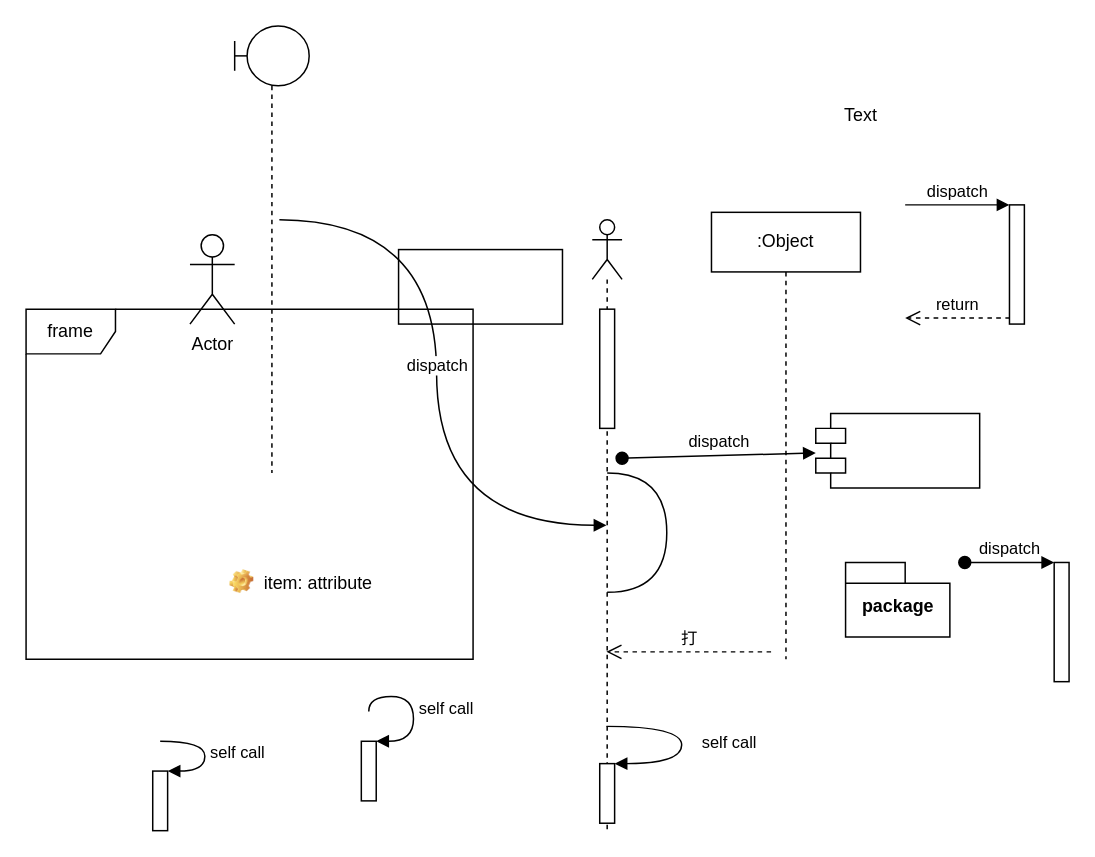
The diagram is 1095 pixels wide and 857 high, and some of its shapes have lost their labels. The shapes that lost their labels are listed below. From the top down, each one's centre as x and y in pixels, then its label:
At point 479,286: "Object".
At point 897,450: "Module".
